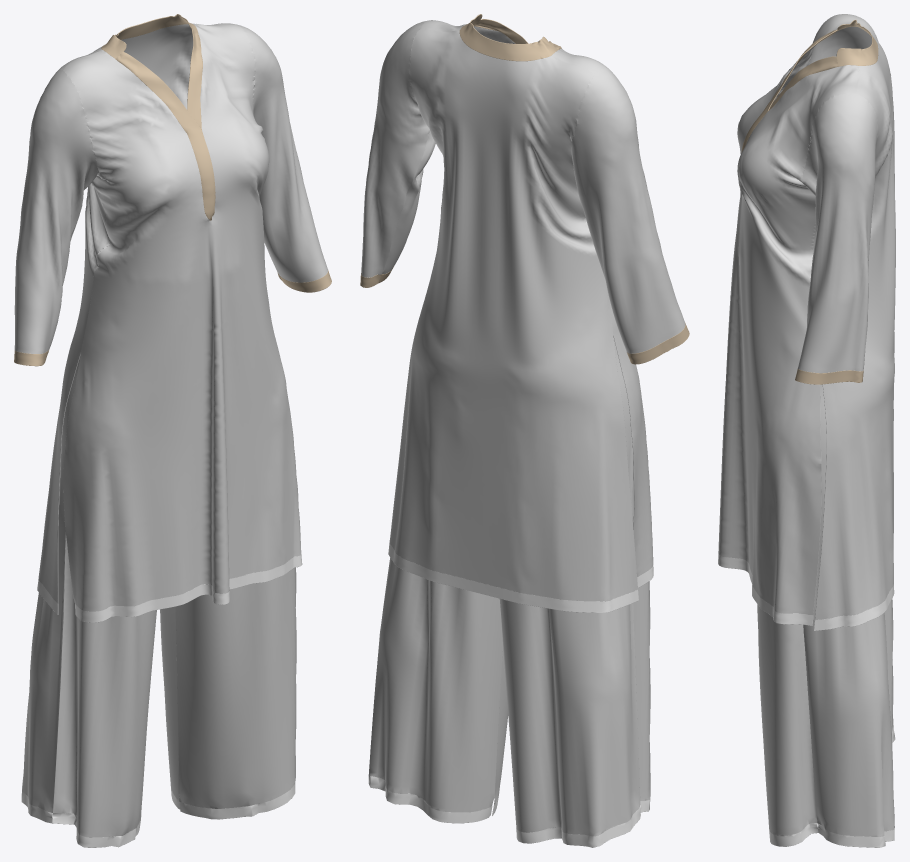
Rendered from kurti.glb.
3 views of the same model, side by side, from view 1: azimuth 30°, elevation 25°; view 2: azimuth 150°, elevation 25°; view 3: azimuth 270°, elevation 25° (orthographic). The views are drawn at different scales.
Parts seen in each view (by area): view 1: Outfit; view 2: Outfit; view 3: Outfit.
Part boxes in pixels (bbox=[...]): Outfit: bbox=[14, 14, 331, 847]; Outfit: bbox=[360, 14, 689, 847]; Outfit: bbox=[718, 14, 895, 847].
Size of the model in its own units: 0.6212 by 1.49 by 0.3083.
